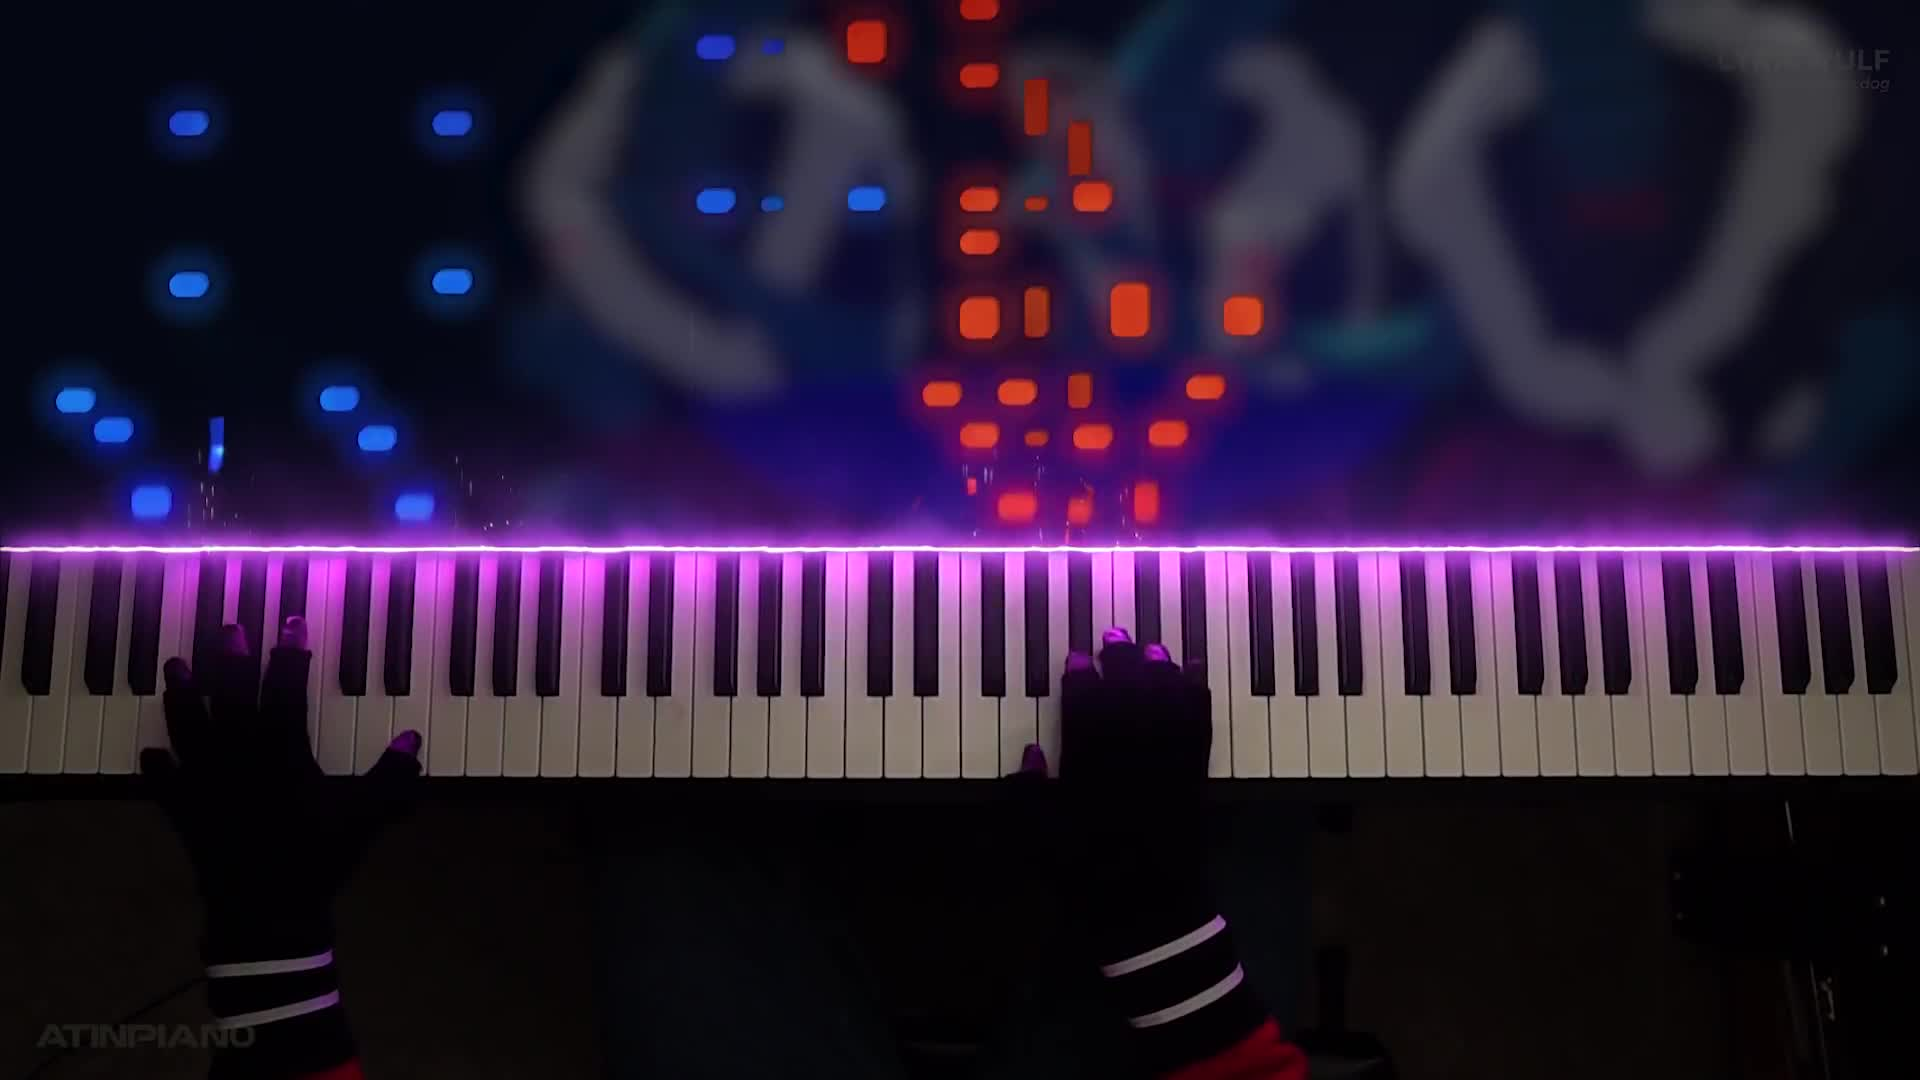left: (132, 615, 427, 889)
right: (1015, 629, 1222, 891)
